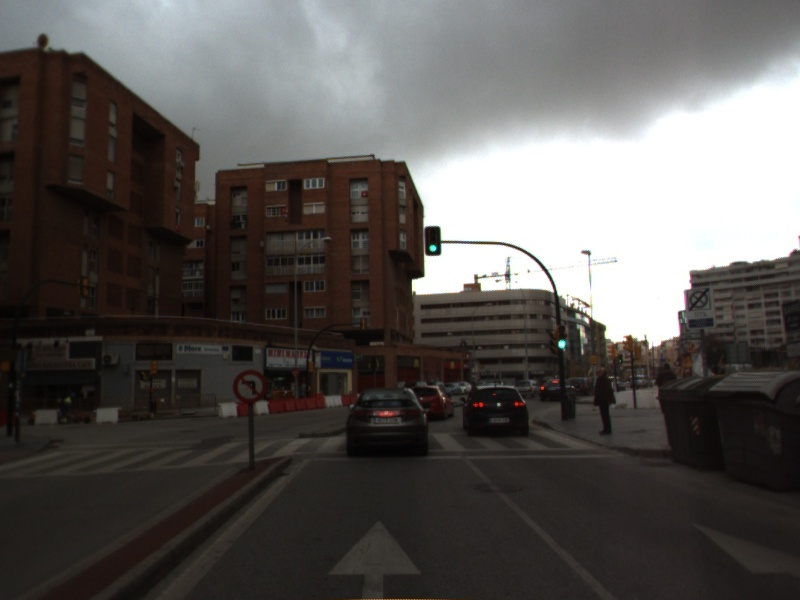STRAIGHT: (321, 515, 426, 600)
